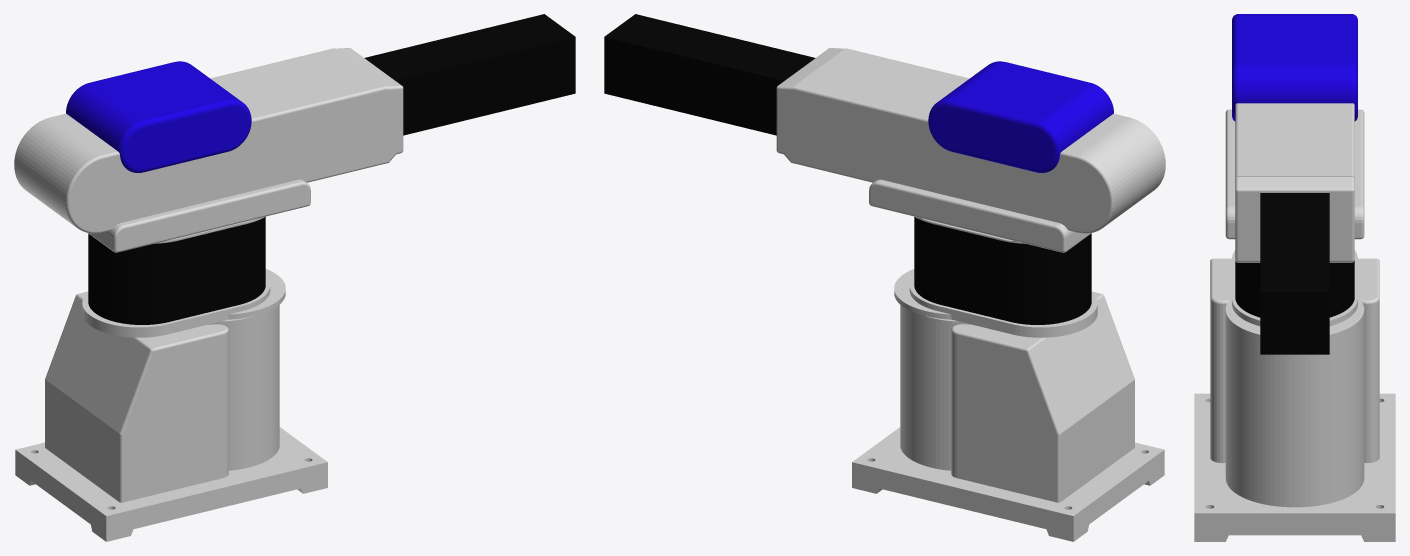
Rendered from tyson.dae.
The picture shows the model from 3 angles, left to right: view 1: azimuth 30°, elevation 25°; view 2: azimuth 150°, elevation 25°; view 3: azimuth 270°, elevation 25°; orthographic projection. The views are drawn at different scales.
Visible parts, largest first — view 1: Cabeza, Base, Rotor, Extensor; view 2: Cabeza, Base, Rotor, Extensor; view 3: Base, Cabeza, Extensor, Rotor.
Boxes of the visible parts, bbox=[...] form: Cabeza: bbox=[14, 48, 403, 252]; Base: bbox=[15, 291, 327, 541]; Rotor: bbox=[82, 217, 285, 337]; Extensor: bbox=[364, 14, 575, 135]; Cabeza: bbox=[776, 48, 1165, 252]; Base: bbox=[852, 291, 1164, 541]; Rotor: bbox=[894, 217, 1097, 337]; Extensor: bbox=[604, 14, 815, 135]; Base: bbox=[1194, 258, 1395, 541]; Cabeza: bbox=[1225, 14, 1364, 262]; Extensor: bbox=[1260, 193, 1329, 354]; Rotor: bbox=[1225, 250, 1364, 340].
Size of what is drawn, in the model's own units: 1.06 by 0.32 by 0.7633.
